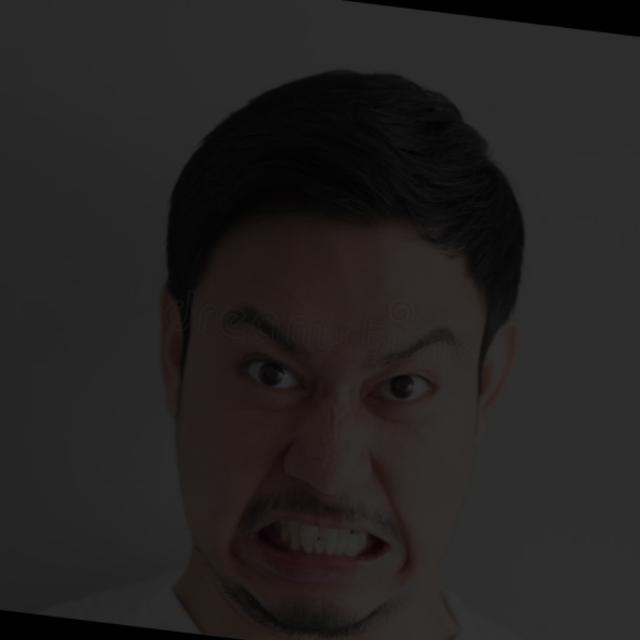Angry: (145, 87, 532, 640)
